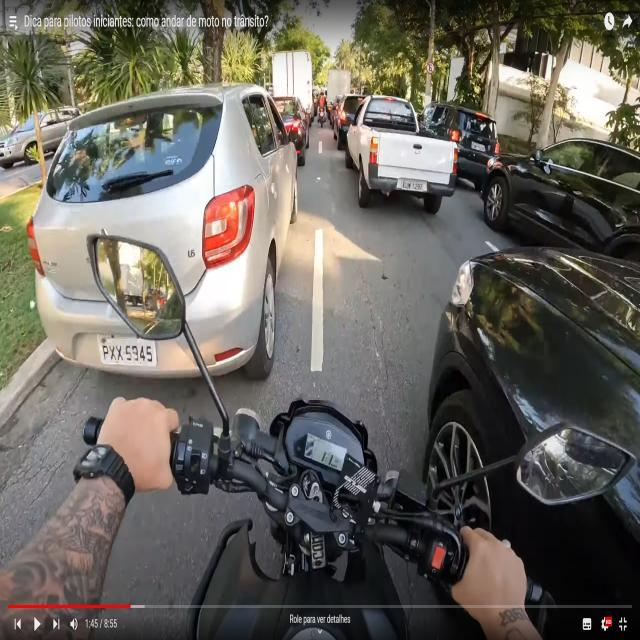Placa_mercosul_carro: (98, 333, 159, 366)
